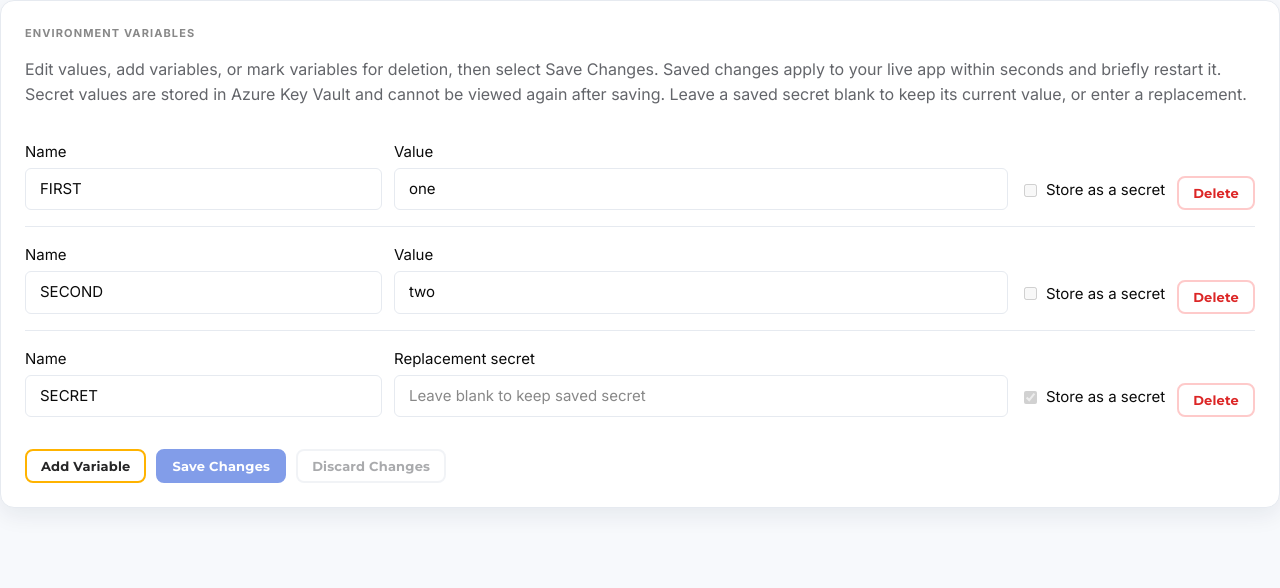
Test case: preserves draft values when submission fails
Replace the text in the field named "Value for FIRST" with "updated". click: (701, 189)
box: [394,168,1008,210]
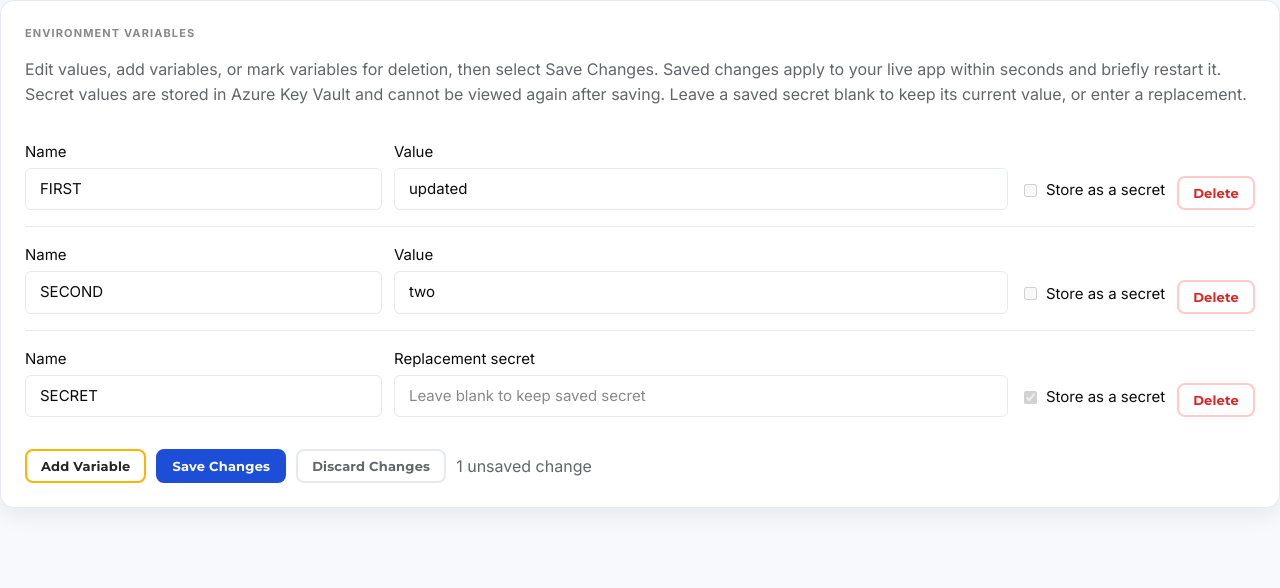
Click the button "Save Changes". click: (221, 466)
box: [156,449,286,484]
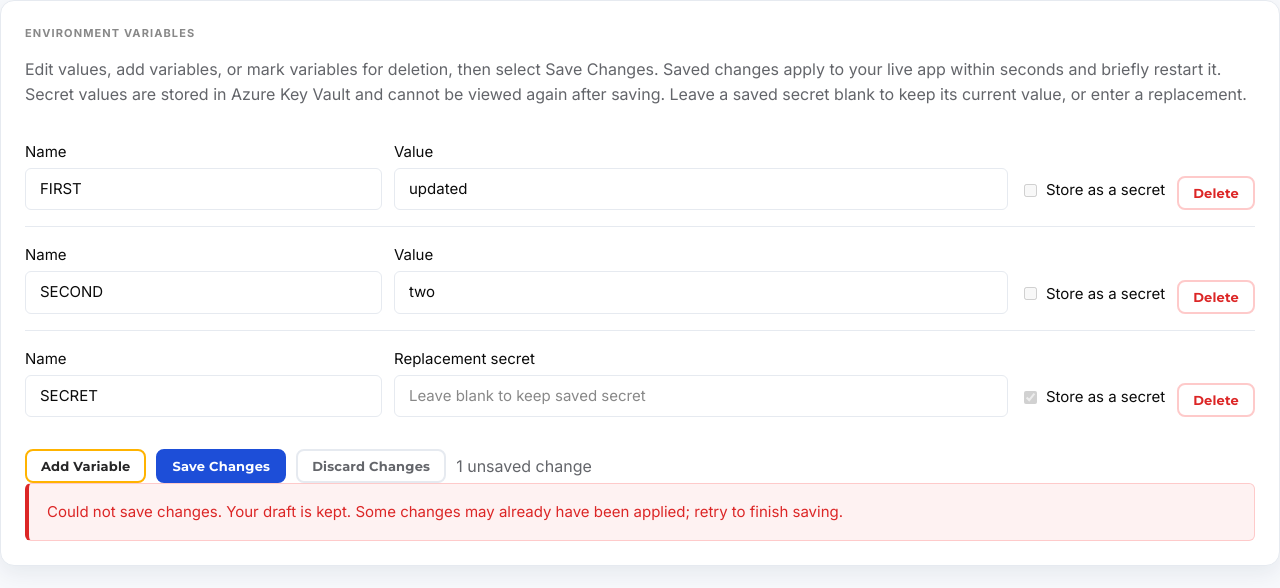
Result: the message shows "Could not save changes." at [47,502,222,522]
